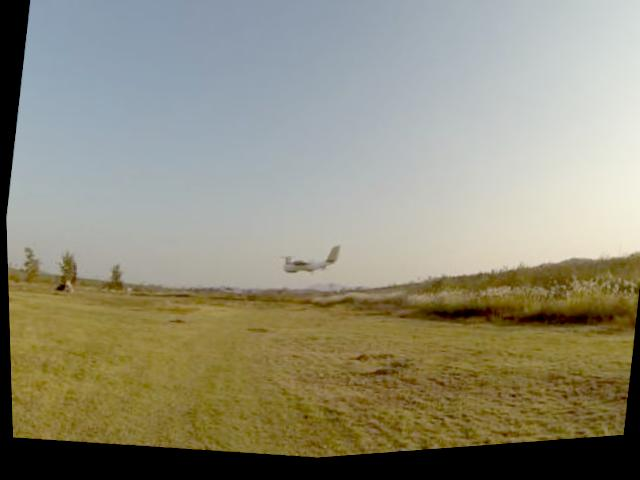uav: (269, 236, 353, 298)
